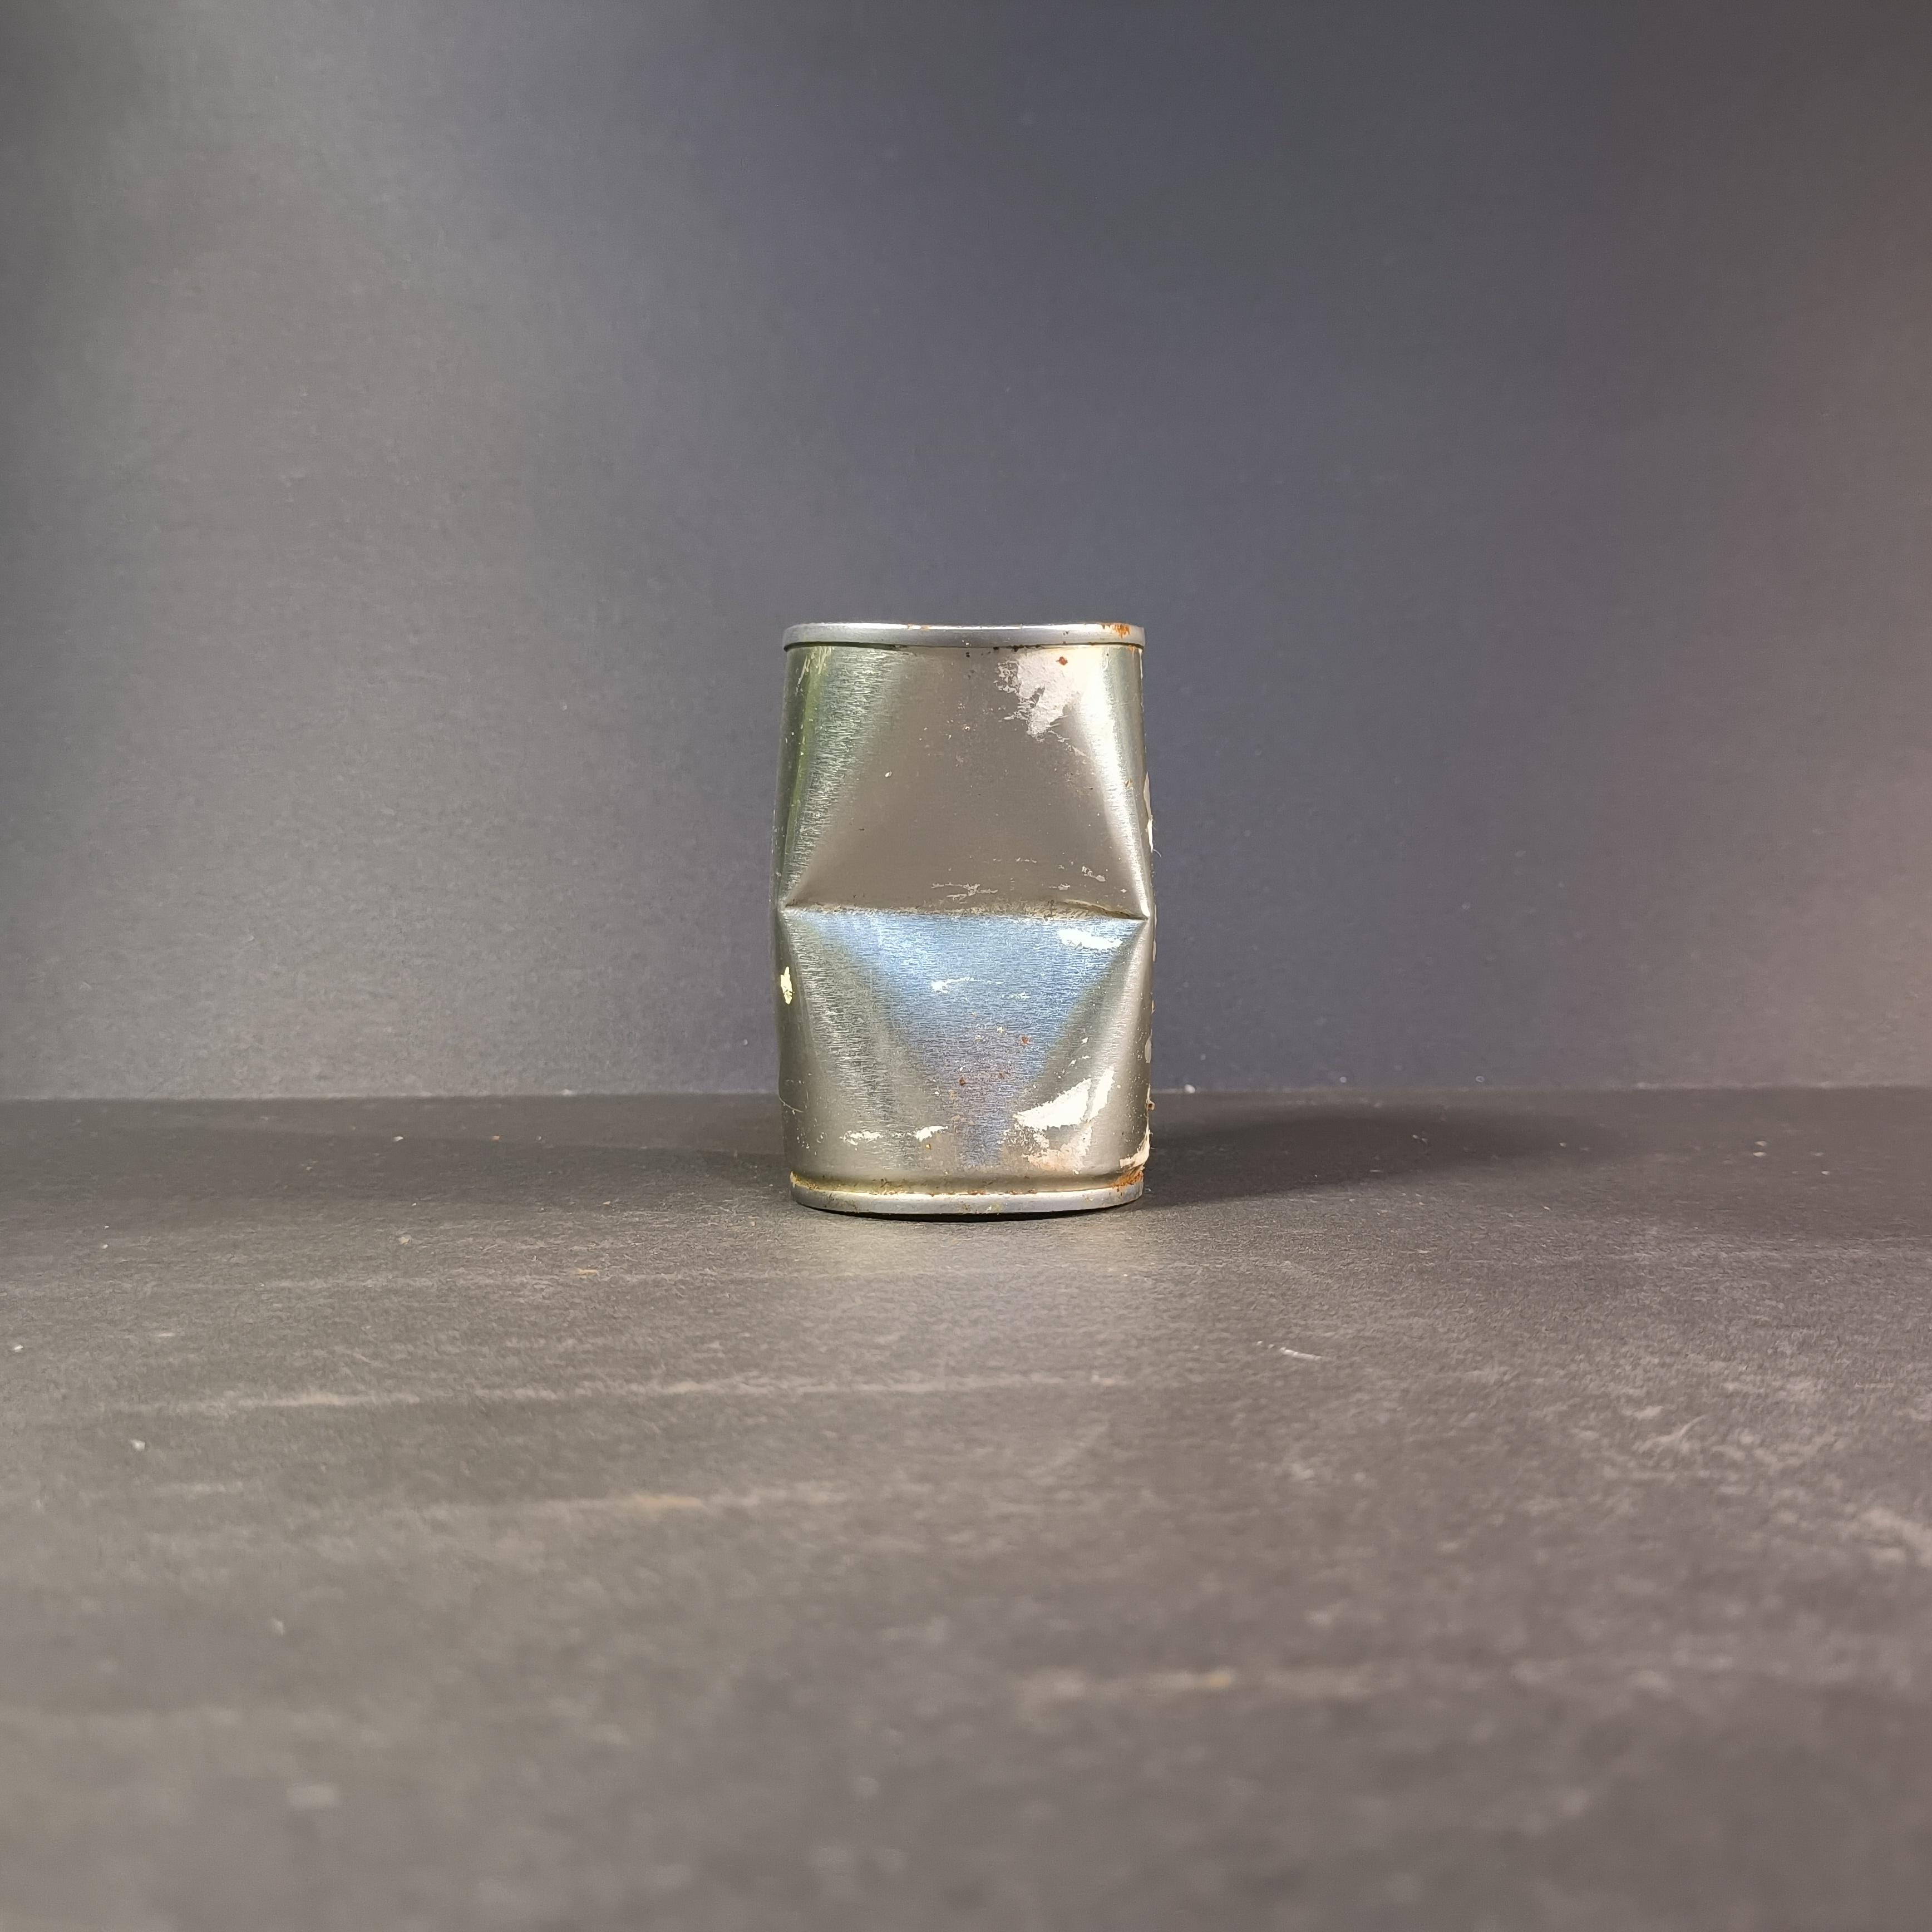Major Defect: (768, 623, 1159, 1215)
